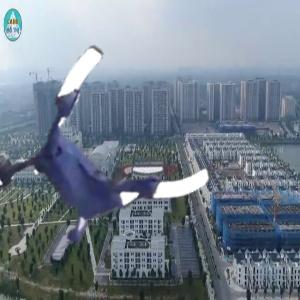drone: (6, 70, 203, 267)
